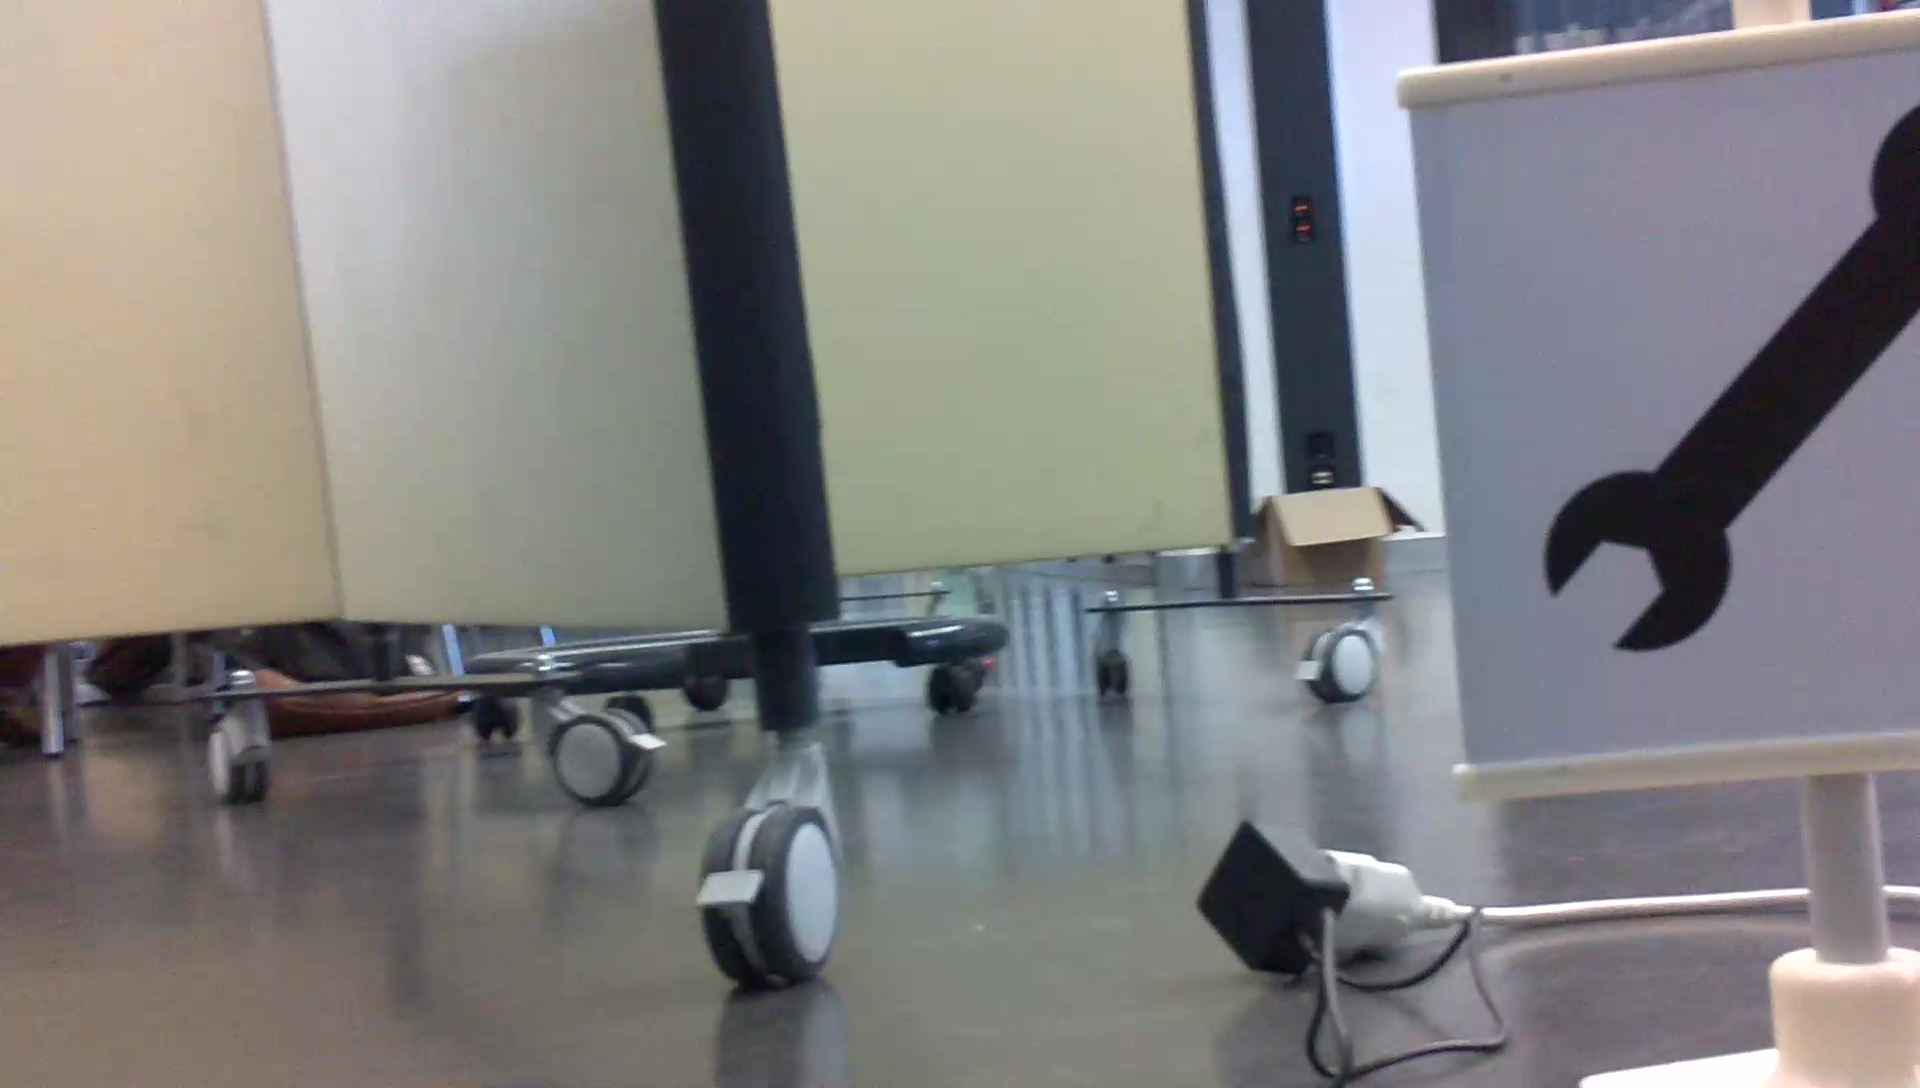wrench: (1532, 100, 1920, 655)
